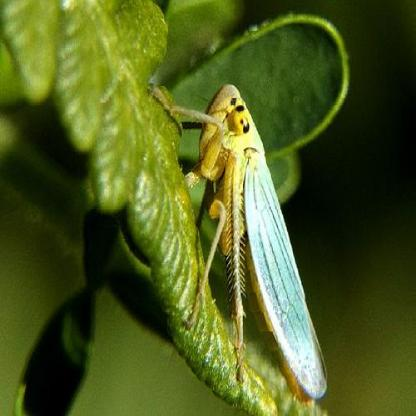Green-Leafhopper: (149, 79, 326, 400)
